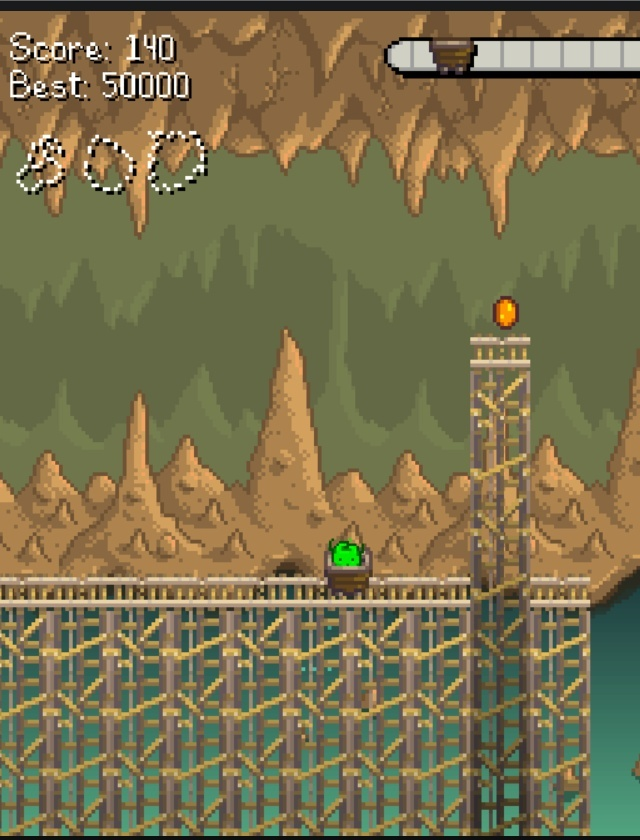coins: (494, 296, 518, 329)
minecart: (325, 539, 370, 594)
tracks: (0, 569, 312, 614), (381, 571, 475, 616), (463, 329, 541, 374), (522, 570, 600, 615)
